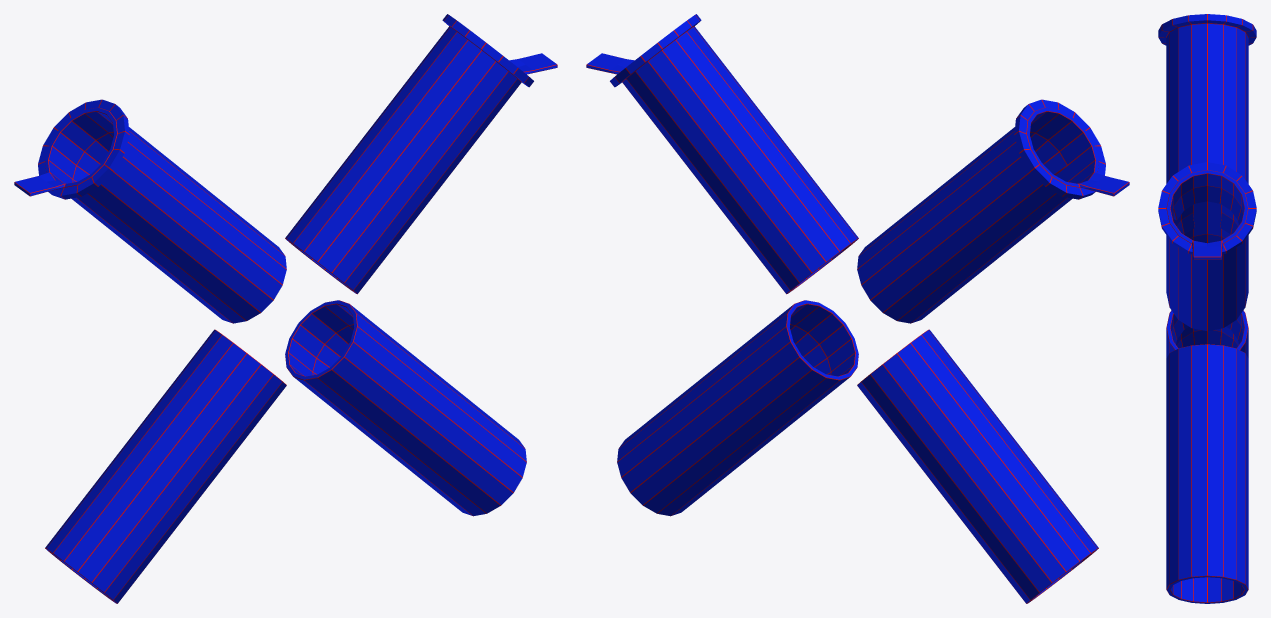
File: L9_Cross_Egdes.fbx
3 renders of one model, left to right at view 1: azimuth 30°, elevation 25°; view 2: azimuth 150°, elevation 25°; view 3: azimuth 270°, elevation 25°, orthographic. The views are drawn at different scales.
Visible parts, largest first — view 1: L9_Cross_Egdes; view 2: L9_Cross_Egdes; view 3: L9_Cross_Egdes.
Boxes of the visible parts, <box> form: L9_Cross_Egdes: <box>14,14,557,603</box>; L9_Cross_Egdes: <box>586,14,1129,603</box>; L9_Cross_Egdes: <box>1158,14,1256,603</box>.
Size of the model in its own units: 6600 by 5894 by 1198.
